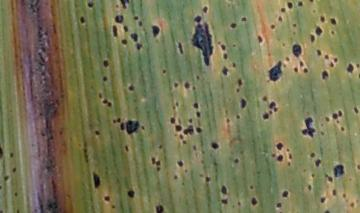tarspot: (192, 23, 213, 66), (268, 61, 282, 82), (303, 116, 315, 137), (127, 119, 139, 133), (92, 171, 101, 188), (82, 143, 89, 162), (292, 44, 302, 57), (335, 164, 345, 177), (151, 24, 160, 38), (183, 125, 194, 135), (346, 62, 354, 74), (177, 41, 184, 54), (115, 14, 124, 24), (324, 172, 333, 182), (315, 25, 323, 36), (155, 204, 164, 213), (130, 32, 138, 42), (239, 99, 247, 109), (220, 185, 228, 195), (127, 189, 135, 199), (112, 25, 118, 38), (251, 196, 258, 207), (121, 1, 130, 9), (329, 17, 337, 26), (222, 66, 229, 76), (120, 38, 128, 46), (176, 159, 184, 167), (281, 190, 289, 198), (193, 15, 202, 22), (319, 15, 326, 24), (315, 48, 322, 57), (321, 70, 328, 79), (331, 111, 338, 120), (37, 22, 44, 31), (150, 155, 156, 165), (101, 98, 109, 105), (87, 1, 95, 8), (136, 42, 143, 50), (211, 142, 219, 149), (276, 142, 283, 150), (277, 154, 284, 162), (314, 159, 321, 167), (39, 130, 47, 137), (103, 59, 109, 68), (184, 81, 190, 90), (195, 110, 201, 119), (257, 35, 263, 44), (128, 84, 135, 91), (192, 102, 199, 109), (202, 6, 209, 13), (269, 101, 276, 108), (297, 1, 304, 8), (290, 29, 297, 36), (97, 92, 103, 100), (80, 16, 86, 24), (123, 25, 129, 33), (176, 124, 182, 132), (195, 127, 203, 133), (237, 78, 243, 86), (263, 112, 269, 120), (353, 107, 359, 115), (3, 174, 9, 182), (223, 51, 228, 60), (310, 34, 315, 43), (102, 75, 108, 82), (133, 14, 139, 21), (170, 117, 176, 124), (173, 81, 179, 88), (235, 113, 241, 120), (240, 16, 247, 22), (262, 95, 268, 102), (285, 55, 291, 62), (287, 2, 293, 9), (303, 67, 309, 74), (309, 152, 316, 158), (349, 201, 355, 208), (320, 196, 326, 203), (275, 202, 282, 208), (103, 196, 110, 202), (180, 179, 186, 186), (38, 110, 44, 117), (120, 122, 125, 130), (230, 23, 238, 28), (278, 15, 283, 23), (325, 115, 330, 123), (332, 188, 337, 196), (221, 199, 229, 204), (49, 133, 54, 141), (1, 146, 4, 158), (9, 152, 15, 158), (155, 166, 161, 172), (231, 62, 237, 68), (280, 7, 286, 13), (340, 126, 346, 132), (338, 108, 342, 117), (205, 176, 211, 182), (94, 130, 101, 135), (138, 20, 143, 27), (179, 133, 184, 140), (192, 144, 197, 151), (221, 44, 226, 51), (269, 24, 276, 29), (299, 60, 304, 67), (320, 130, 325, 137), (308, 185, 313, 192), (192, 83, 196, 91), (12, 167, 17, 173), (161, 69, 167, 74), (156, 160, 161, 166), (188, 117, 193, 123), (195, 74, 200, 80), (234, 158, 239, 164), (294, 67, 299, 73), (312, 8, 317, 14), (324, 54, 329, 60), (342, 192, 347, 198), (249, 185, 255, 190), (58, 130, 64, 135), (44, 30, 49, 36), (125, 145, 129, 152), (175, 100, 179, 107), (287, 160, 291, 167), (334, 56, 338, 63), (322, 209, 329, 213), (112, 119, 117, 124), (182, 140, 187, 145), (232, 43, 237, 48), (273, 107, 278, 112), (292, 23, 297, 28), (271, 153, 276, 158), (319, 123, 324, 128), (237, 201, 242, 206), (173, 175, 178, 180), (108, 102, 112, 108), (117, 117, 121, 123), (115, 3, 119, 9), (226, 117, 230, 123), (289, 152, 292, 160), (184, 168, 188, 174), (159, 143, 162, 150), (141, 125, 145, 130), (217, 40, 221, 45), (236, 88, 240, 93), (268, 110, 273, 114), (283, 63, 287, 68), (282, 42, 286, 47), (286, 147, 290, 152), (331, 30, 335, 35), (356, 63, 360, 68), (312, 174, 316, 179), (111, 205, 116, 209), (15, 192, 19, 197), (357, 164, 360, 170), (336, 120, 340, 124), (16, 209, 20, 213), (331, 62, 334, 67), (309, 1, 314, 3), (1, 210, 4, 213), (359, 73, 360, 79), (1, 184, 2, 190)
